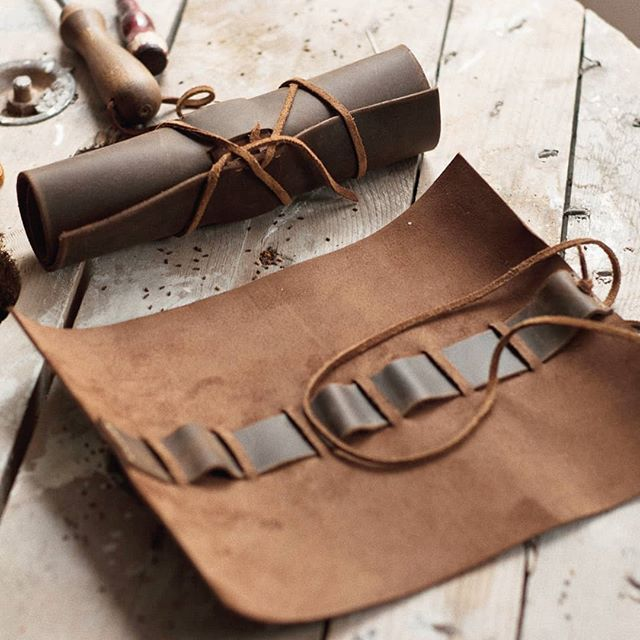cuero: (8, 43, 640, 486)
